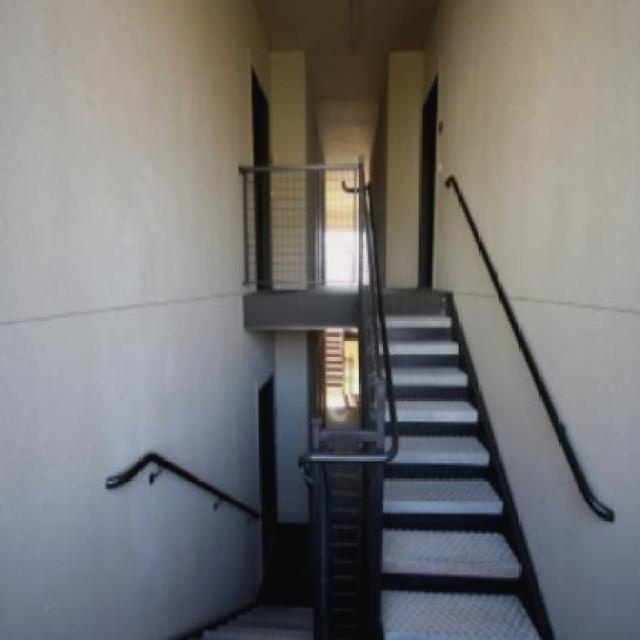stair: (146, 180, 548, 638)
